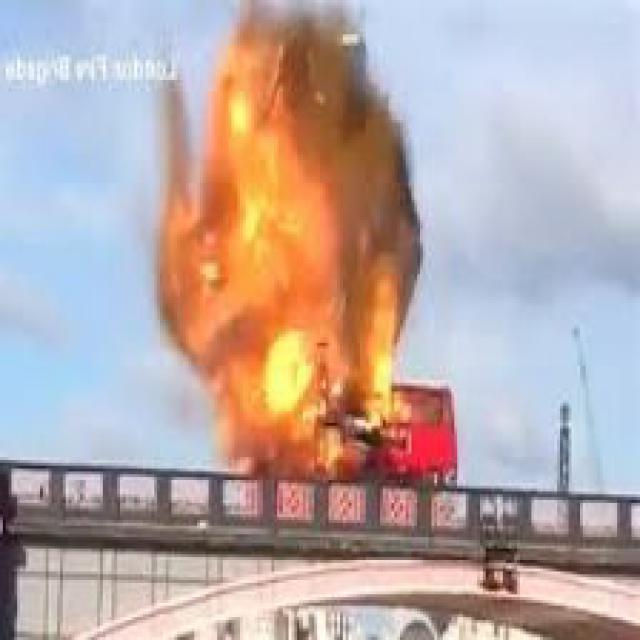fire: (154, 8, 434, 466)
